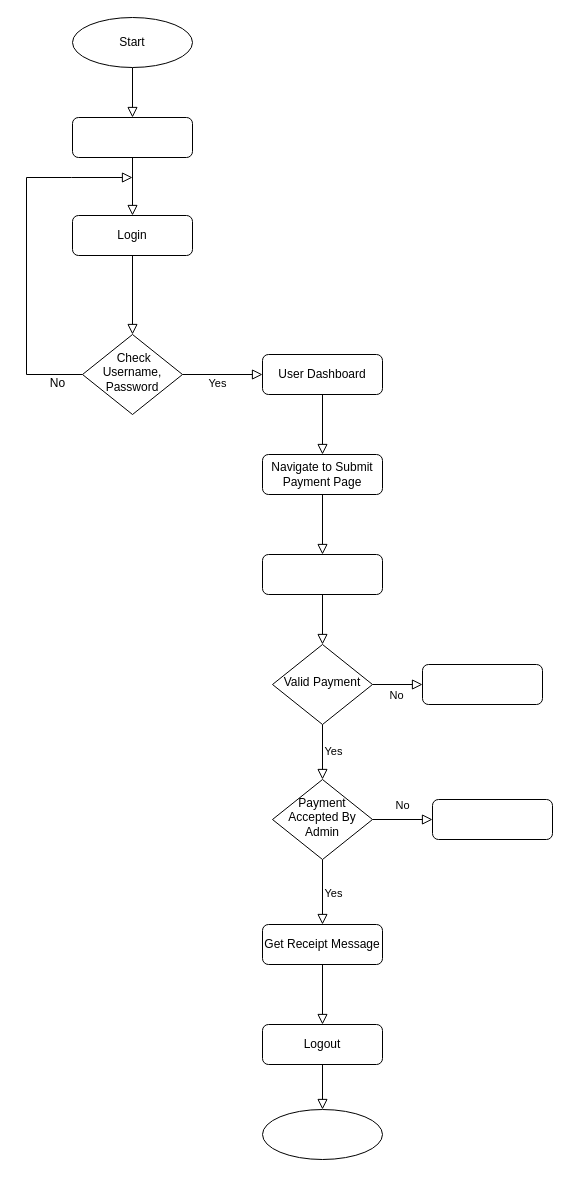
Some shapes in this 570 by 1177 pixel diagram are drawn without their labels. The box of each missing label's shape, as (x1, y1, x2, y2) in pixels:
End: (262, 1108, 382, 1160)
Get Warning Message: (432, 798, 552, 840)
Home Page: (72, 116, 192, 158)
Retry Submit Payment: (422, 664, 542, 704)
Submit Payment: (262, 554, 382, 594)
